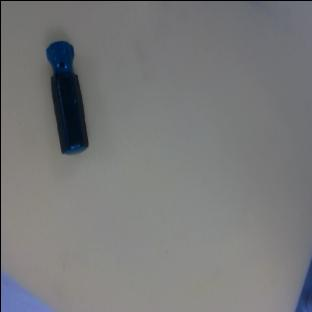part_2_bad: (44, 39, 88, 156)
